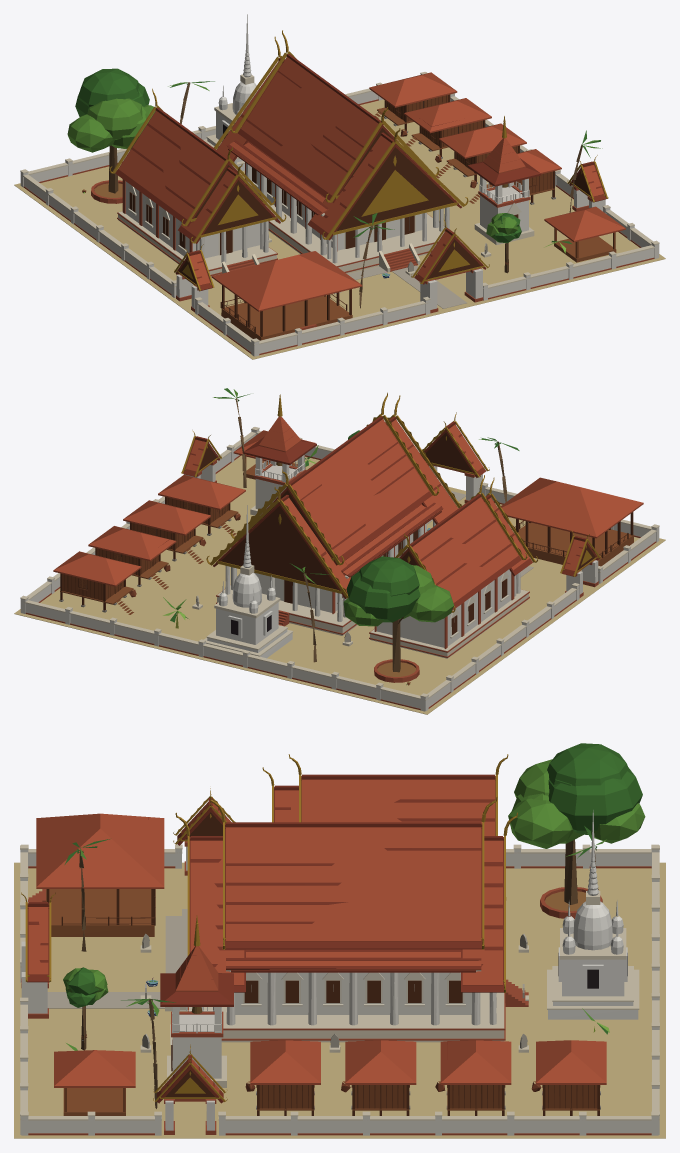
File: temple_3.glb
The picture shows the model from 3 angles, top to bottom: view 1: azimuth 30°, elevation 25°; view 2: azimuth 150°, elevation 25°; view 3: azimuth 270°, elevation 25°; orthographic projection. The views are drawn at different scales.
Visible parts, largest first — view 1: body; view 2: body; view 3: body.
Part boxes in pixels (box(x1,y1,x2,y2)): body: box(14, 14, 665, 359); body: box(14, 388, 665, 714); body: box(14, 743, 665, 1138).
Size of the model in its own units: 47.9 by 16.78 by 47.9.
